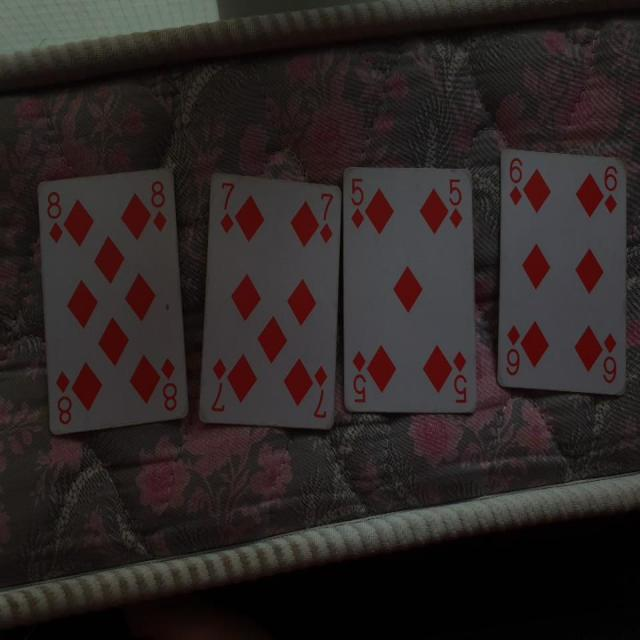5 Diamonds: (338, 166, 478, 417)
6 Diamonds: (499, 146, 630, 400)
7 Diamonds: (200, 171, 342, 430)
8 Diamonds: (35, 162, 190, 437)
